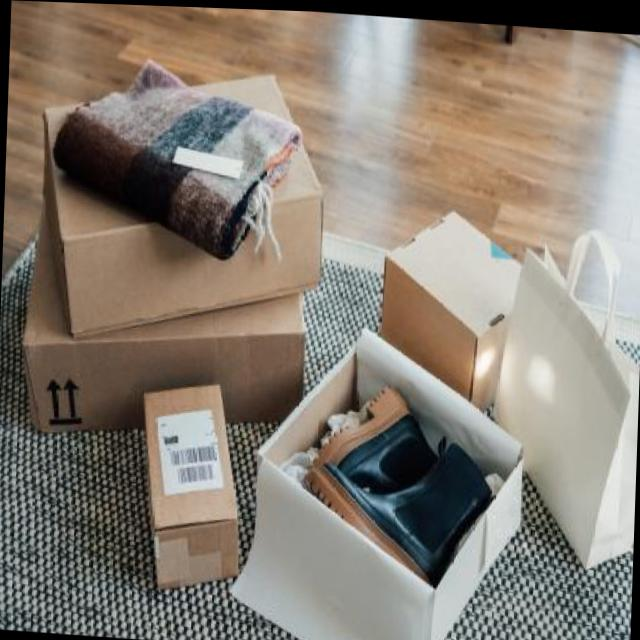box: (4, 165, 327, 468), (28, 48, 336, 357), (366, 182, 540, 411), (120, 383, 272, 622)
